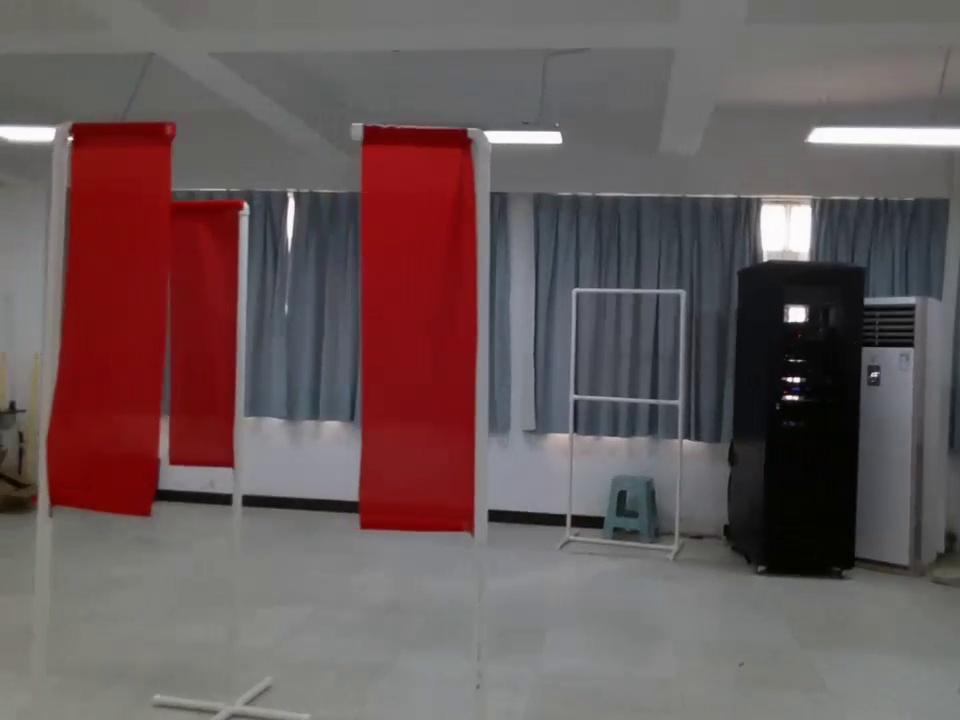qi: (24, 108, 179, 537), (348, 115, 495, 548), (164, 193, 249, 478)
